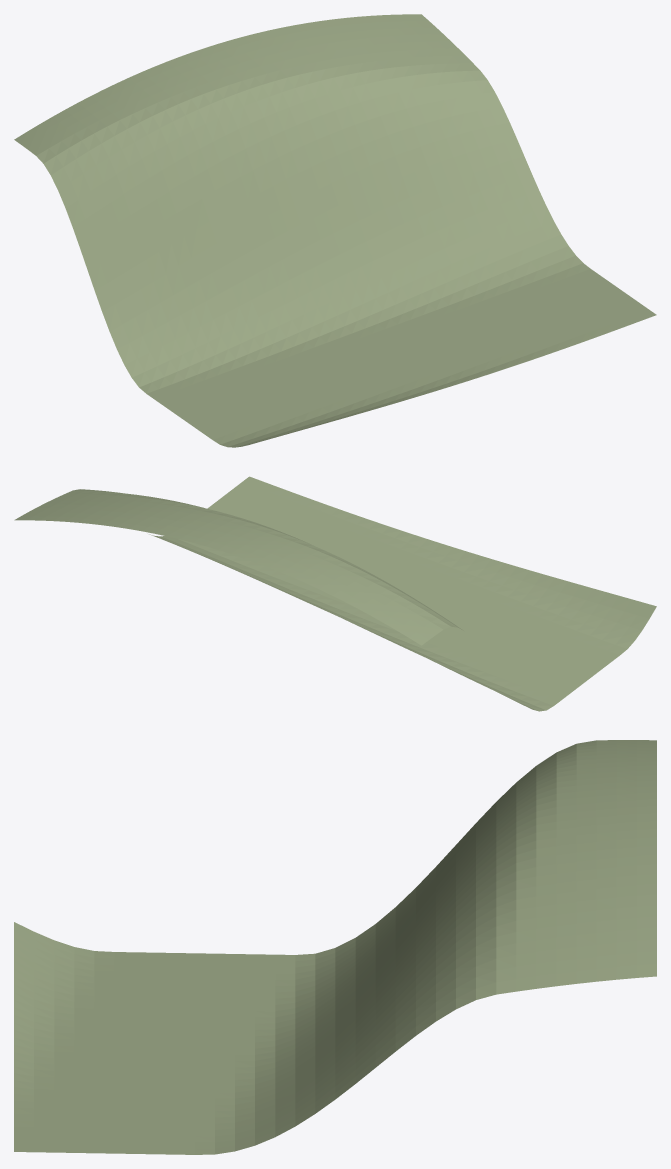
File: alpine-9-2.glb
3 renders of one model, top to bottom at view 1: azimuth 30°, elevation 25°; view 2: azimuth 150°, elevation 25°; view 3: azimuth 270°, elevation 25°, orthographic. The views are drawn at different scales.
Visible parts, largest first — view 1: alpine-9-2; view 2: alpine-9-2; view 3: alpine-9-2.
Boxes of the visible parts, left/top/right/bottom form: alpine-9-2: left=14, top=14, right=656, bottom=447; alpine-9-2: left=14, top=476, right=656, bottom=711; alpine-9-2: left=14, top=740, right=656, bottom=1154.
Bounding box in the file's own units: 256 × 123 × 256.
